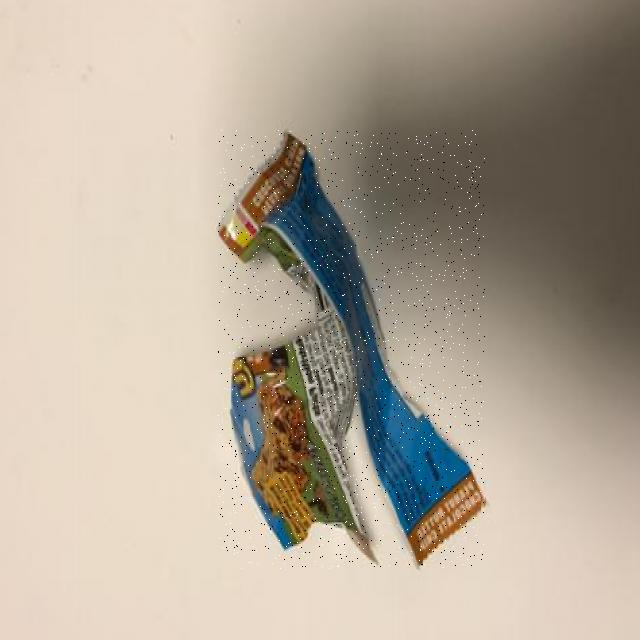wrapper: (219, 130, 485, 568)
